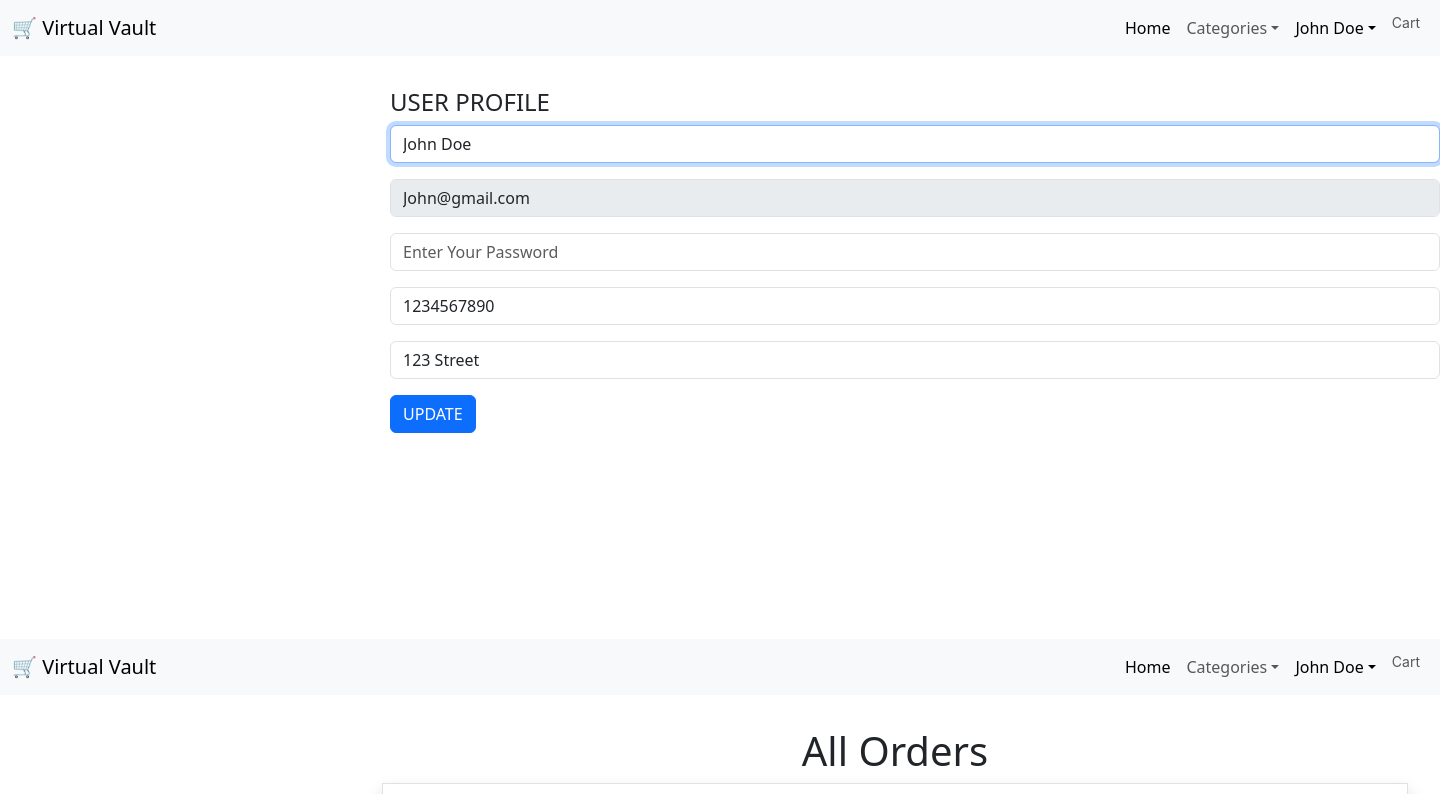
Profile to orders component flow › Orders component refetches after auth user changes
Step 1. Replace the text in the 1st field with placeholder "Enter Your Name" with "Jane Doe" → (915, 144), box [390, 125, 1440, 163]
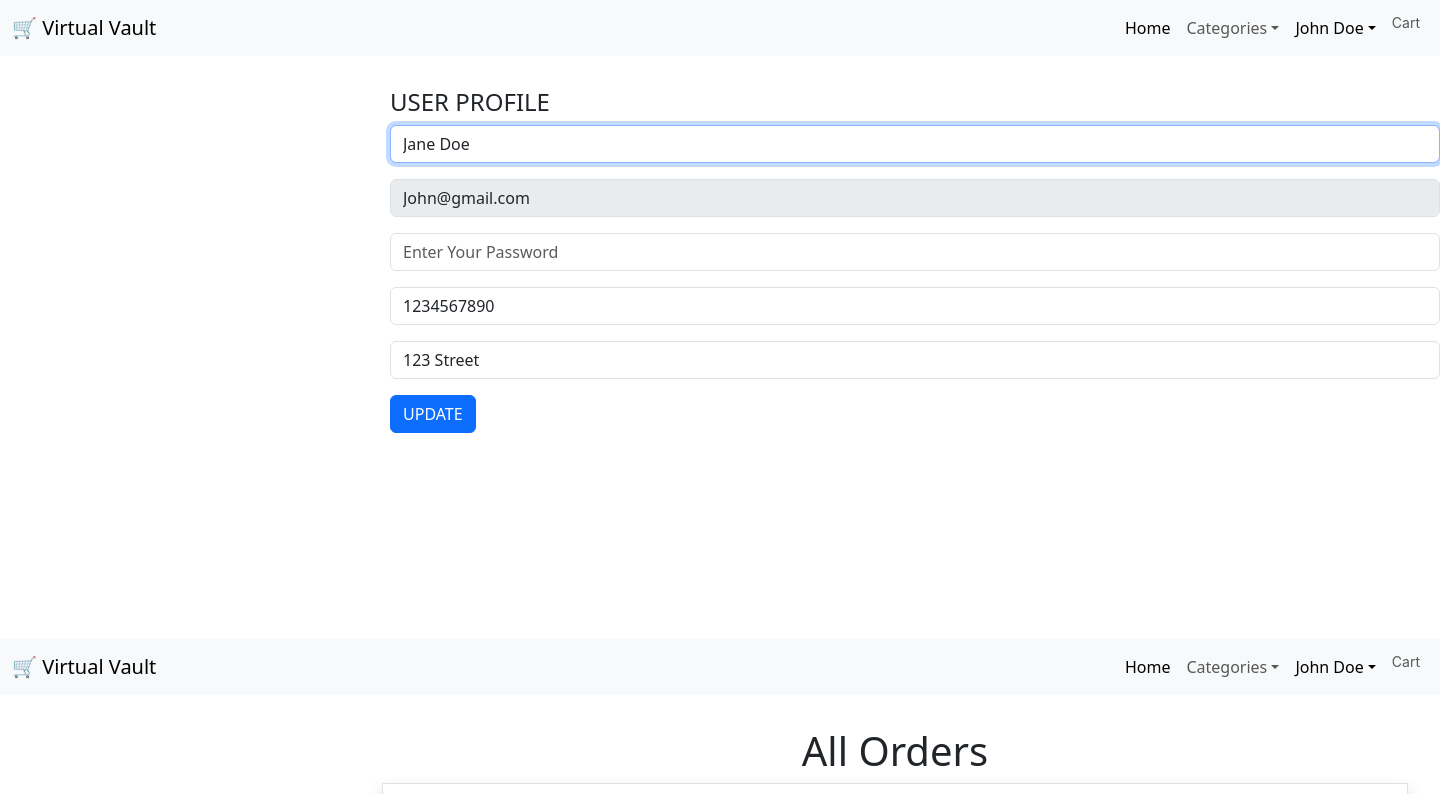
Step 2. Replace the text in the 3rd field with placeholder "Enter Your Phone" with "0987654321" → (915, 306), box [390, 287, 1440, 325]
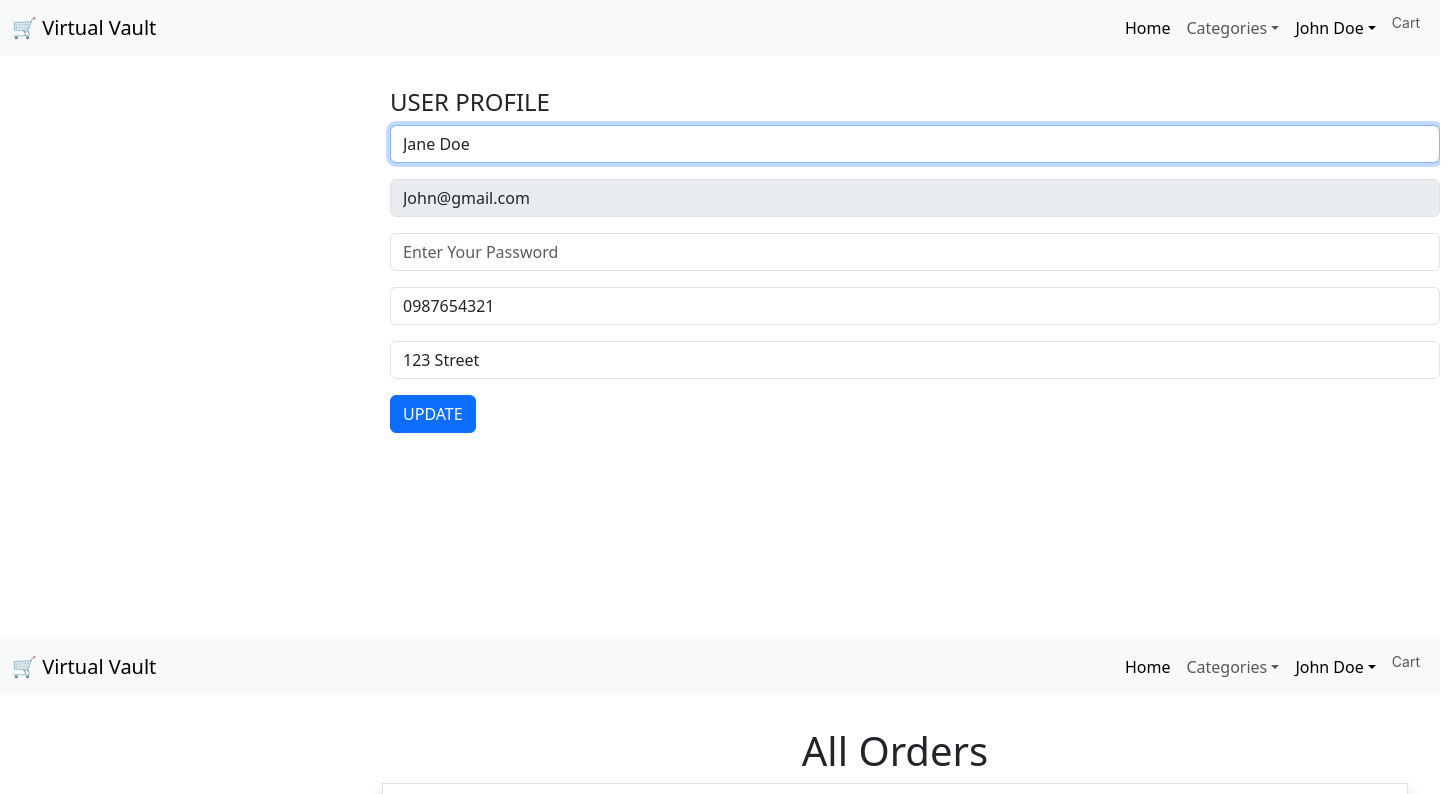
Step 3. Click the button "UPDATE" → click(433, 414), box [390, 395, 476, 433]
(page scrolled)
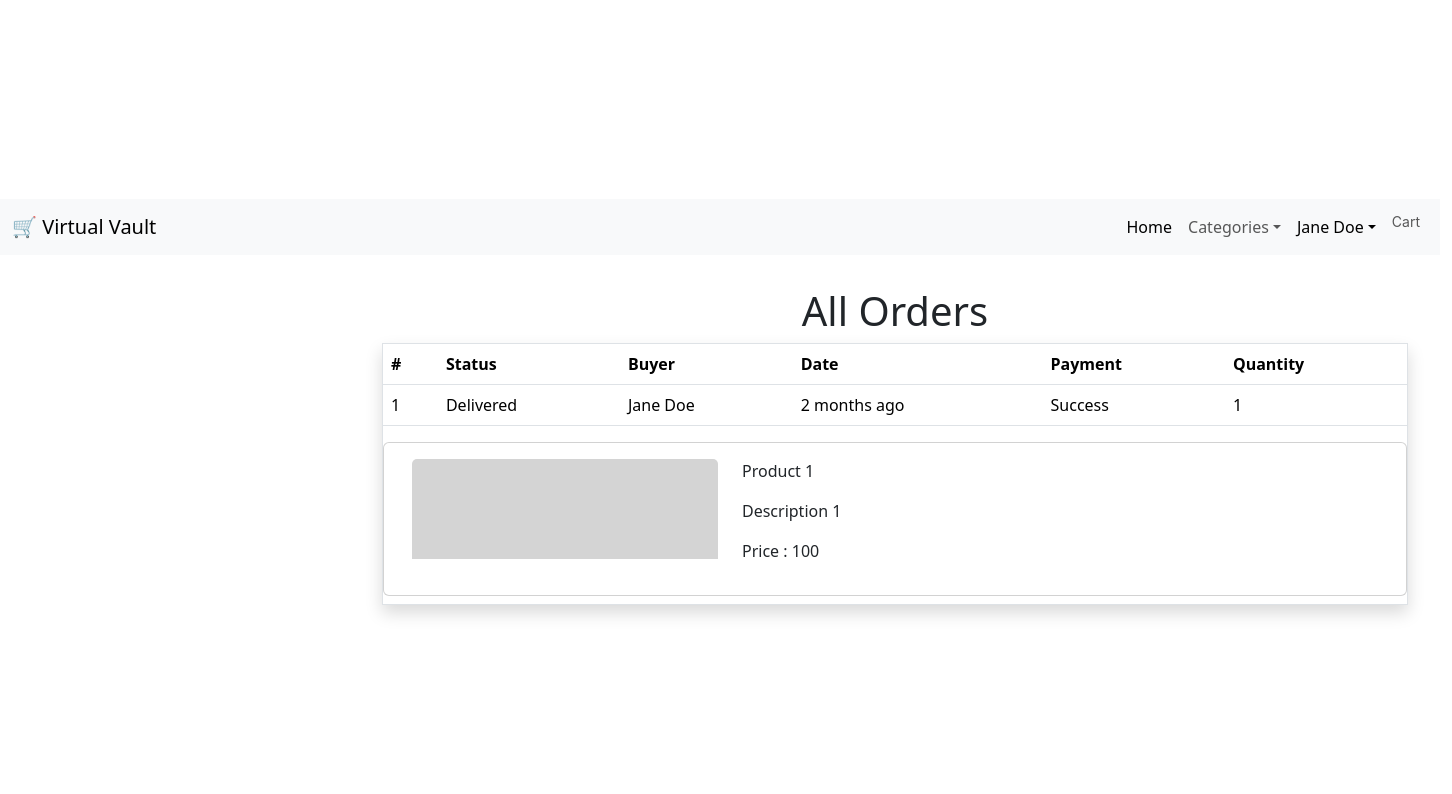
Expected: the text "Jane Doe" is shown, [620, 384, 793, 426]
